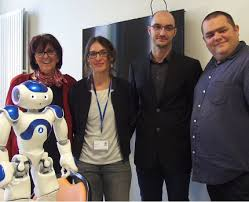nao: (1, 76, 91, 197)
